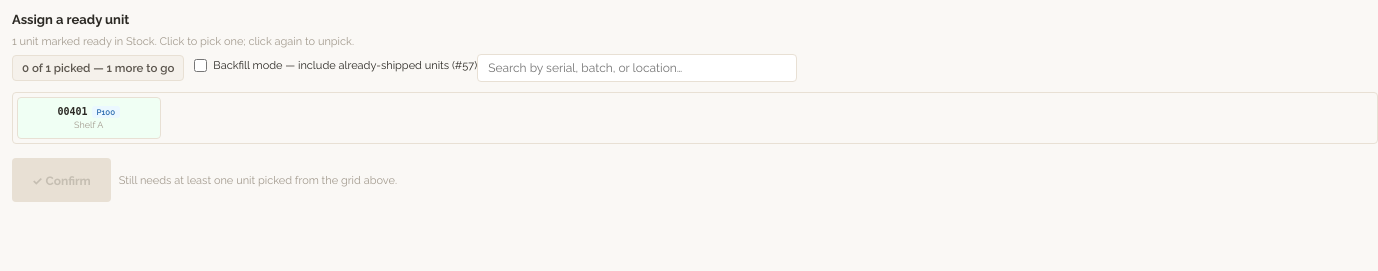
Scenario: StepAssign — why Confirm is disabled › clears the hint once a unit is picked
Click the text "00401": (89, 112) [57, 106, 120, 118]
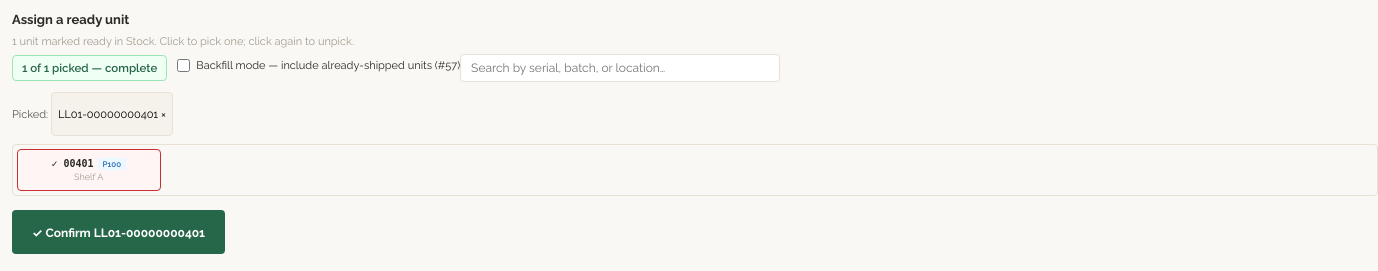
Expected: the text with test id "step-blockers" is gone
Expected: the button "✓ Confirm LL01-00000000401" is enabled, [12, 210, 225, 254]
